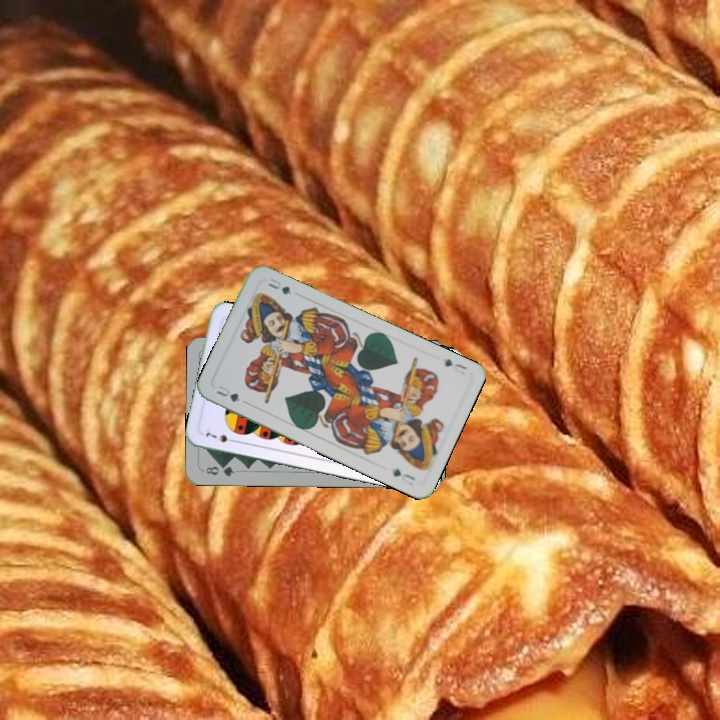G8: (202, 461, 237, 479)
GU: (212, 381, 243, 405), (441, 355, 469, 377)
S7: (201, 428, 240, 445)
